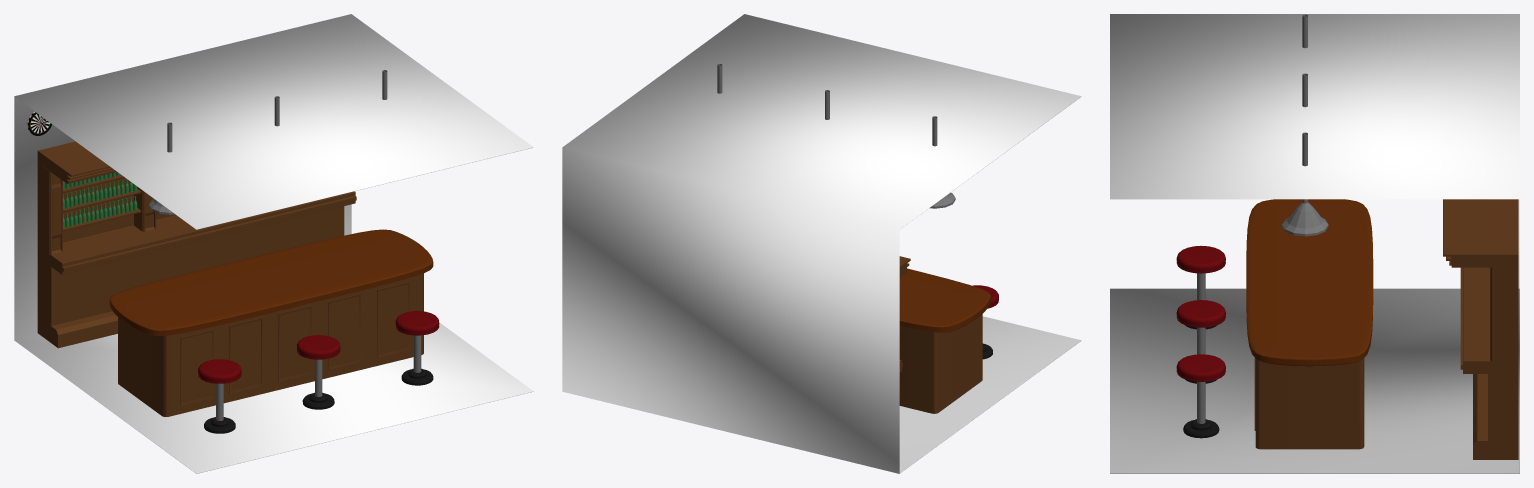
File: bar4class.fbx
The picture shows the model from 3 angles, left to right: view 1: azimuth 30°, elevation 25°; view 2: azimuth 150°, elevation 25°; view 3: azimuth 270°, elevation 25°; orthographic projection. The views are drawn at different scales.
Parts seen in each view (by area): view 1: Setting, Bar Shelf, Bar Bottom shelf, Bar, Bar Stool, Bottle, Ceiling Lamp; view 2: Setting, Bar Bottom shelf, Bar, Ceiling Lamp; view 3: Setting, Bar, Bar Shelf, Bar Bottom shelf, Bar Stool, Ceiling Lamp.
Boxes of the visible parts, box(x1,y1,x2,y2) form: Setting: box(14, 14, 533, 473); Bar Shelf: box(37, 141, 356, 348); Bar Bottom shelf: box(118, 273, 423, 416); Bar: box(109, 229, 433, 335); Bar Stool: box(198, 311, 439, 433); Bottle: box(63, 172, 137, 228); Ceiling Lamp: box(149, 70, 387, 214); Setting: box(562, 14, 1081, 473); Bar Bottom shelf: box(899, 314, 982, 413); Bar: box(899, 268, 990, 332); Ceiling Lamp: box(717, 64, 955, 208); Setting: box(1110, 14, 1519, 473); Bar: box(1246, 199, 1373, 366); Bar Shelf: box(1443, 199, 1518, 459); Bar Bottom shelf: box(1254, 358, 1364, 449); Bar Stool: box(1176, 245, 1225, 438); Ceiling Lamp: box(1282, 14, 1328, 236).
Size of the model in its own units: 41.34 by 31.89 by 38.69.
